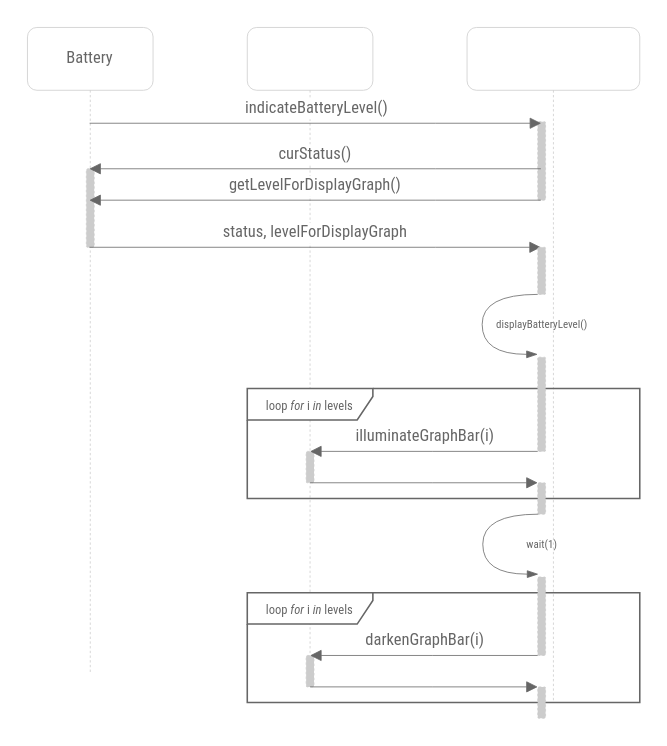
Image size: 667x746. Some labels were removed from this diagram. Each missing label, with the box of its shape:
MainWindow: (466, 26, 639, 702)
UI: (246, 26, 373, 672)
